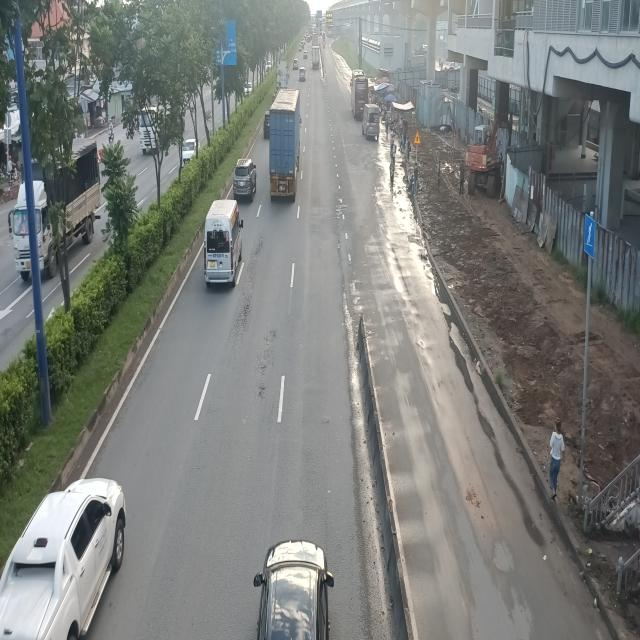car: (0, 479, 122, 639), (253, 540, 334, 639), (234, 156, 258, 203)
coach: (350, 72, 369, 119)
container: (269, 89, 300, 201)
van: (204, 198, 244, 288), (362, 105, 380, 138)
